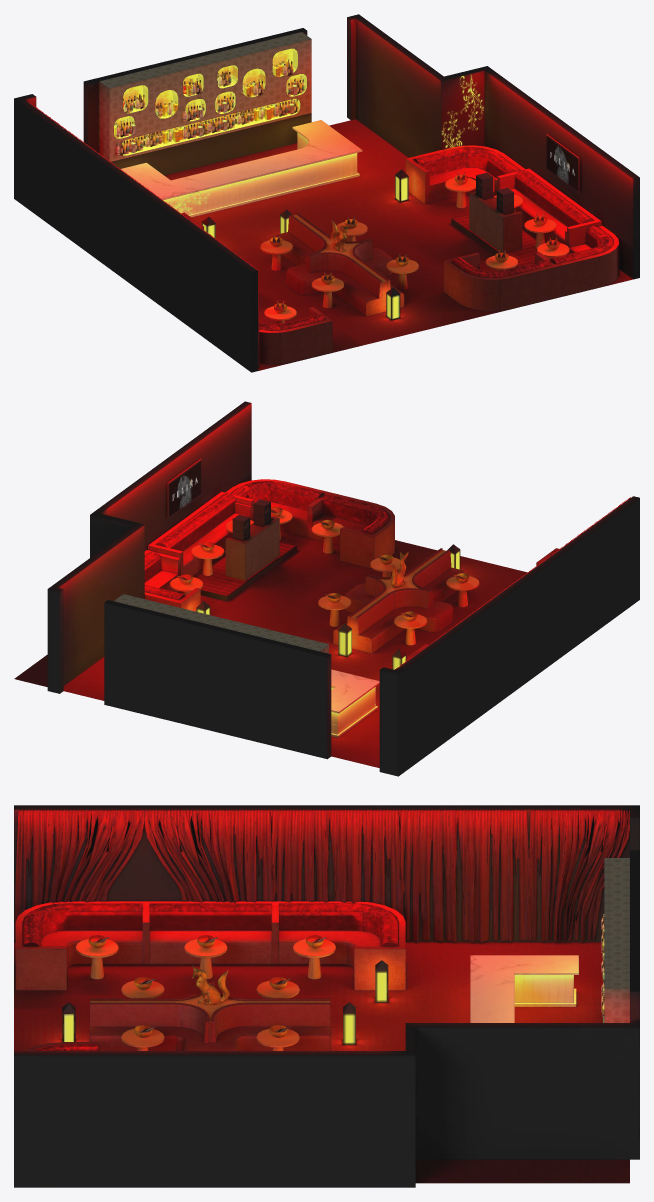
The model's file is Felina Miami Bake (3).glb.
The picture shows the model from 3 angles, top to bottom: view 1: azimuth 30°, elevation 25°; view 2: azimuth 150°, elevation 25°; view 3: azimuth 270°, elevation 25°; orthographic projection. The views are drawn at different scales.
Parts seen in each view (by area): view 1: Stage_Baked; view 2: Stage_Baked; view 3: Stage_Baked, Stage_Baked.001, Stage_Baked.003, Stage_Baked.002, Stage_Baked.010, Stage_Baked.009, Stage_Baked.007, Stage_Baked.008.
Part boxes in pixels (left/top/right/bottom): Stage_Baked: left=14, top=14, right=639, bottom=372; Stage_Baked: left=14, top=401, right=639, bottom=776; Stage_Baked: left=14, top=805, right=639, bottom=1187; Stage_Baked.001: left=75, top=939, right=118, bottom=979; Stage_Baked.003: left=293, top=939, right=335, bottom=979; Stage_Baked.002: left=184, top=939, right=227, bottom=979; Stage_Baked.010: left=121, top=1028, right=164, bottom=1050; Stage_Baked.009: left=256, top=1028, right=299, bottom=1050; Stage_Baked.007: left=256, top=980, right=299, bottom=998; Stage_Baked.008: left=121, top=980, right=164, bottom=998.
Size of the model in its own units: 11.89 by 2.94 by 12.6.
1 material, 1 textured.
